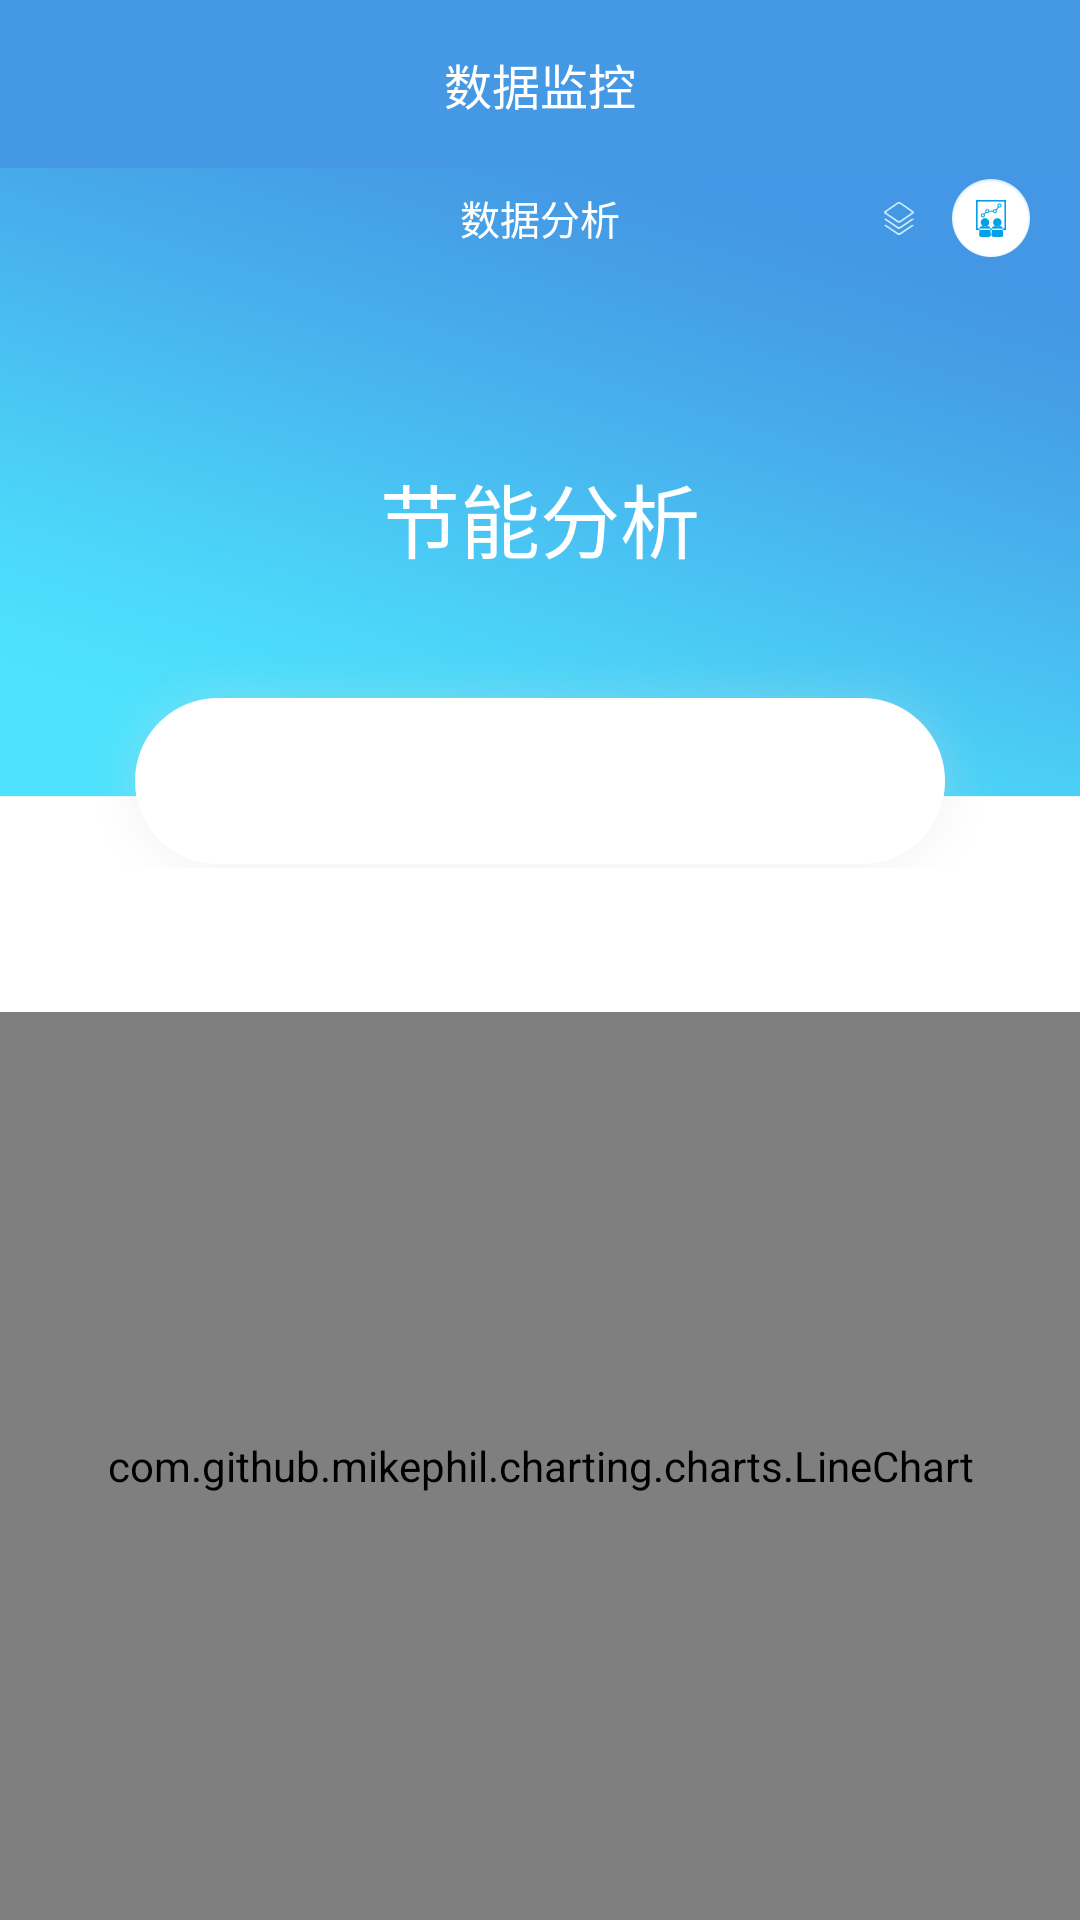

Screen size 1080 x 1920. Icon name, then its center in pixels as (x,y):
shujufenxi: (991,218)
